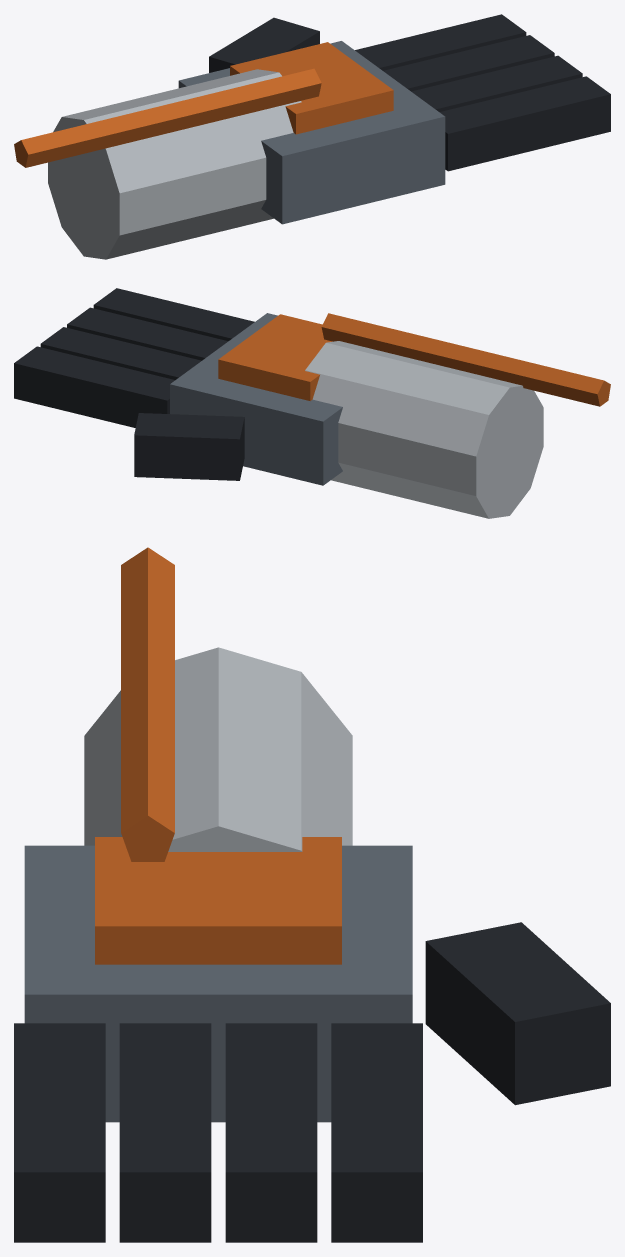
Rendered from prosthesis-hand.glb.
3 views of the same model, one above another, from view 1: azimuth 30°, elevation 25°; view 2: azimuth 150°, elevation 25°; view 3: azimuth 270°, elevation 25° (orthographic). The views are drawn at different scales.
Visible parts, largest first — view 1: prosthesis-hand; view 2: prosthesis-hand; view 3: prosthesis-hand.
Boxes of the visible parts, <box> form: prosthesis-hand: <box>14,14,610,259</box>; prosthesis-hand: <box>14,288,610,518</box>; prosthesis-hand: <box>14,547,610,1242</box>.
Bounding box in the file's own units: 0.34 × 0.088 × 0.1693.
